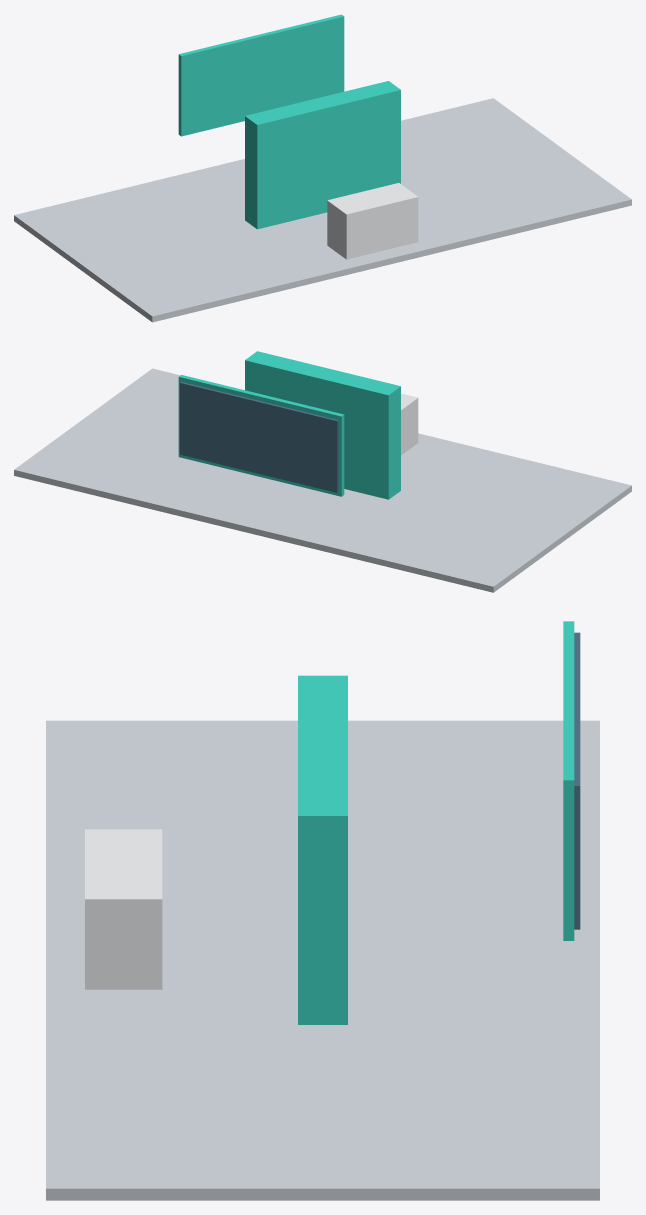
3 renders of one model, top to bottom at view 1: azimuth 30°, elevation 25°; view 2: azimuth 150°, elevation 25°; view 3: azimuth 270°, elevation 25°, orthographic. The views are drawn at different scales.
Visible parts, largest first — view 1: Exhibition Booth Concept; view 2: Exhibition Booth Concept; view 3: Exhibition Booth Concept.
Part boxes in pixels (left/top/right/bottom): Exhibition Booth Concept: left=14, top=14, right=631, bottom=322; Exhibition Booth Concept: left=14, top=351, right=631, bottom=592; Exhibition Booth Concept: left=46, top=621, right=599, bottom=1200.
Bounding box in the file's own units: 10 × 2.65 × 5.
